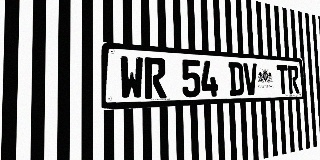4: (200, 60, 218, 97)
5: (182, 59, 201, 97)
D: (228, 62, 244, 96)
R: (144, 57, 166, 99), (288, 65, 299, 94)
T: (276, 65, 289, 94)
V: (243, 63, 258, 95)
W: (119, 56, 144, 100)
